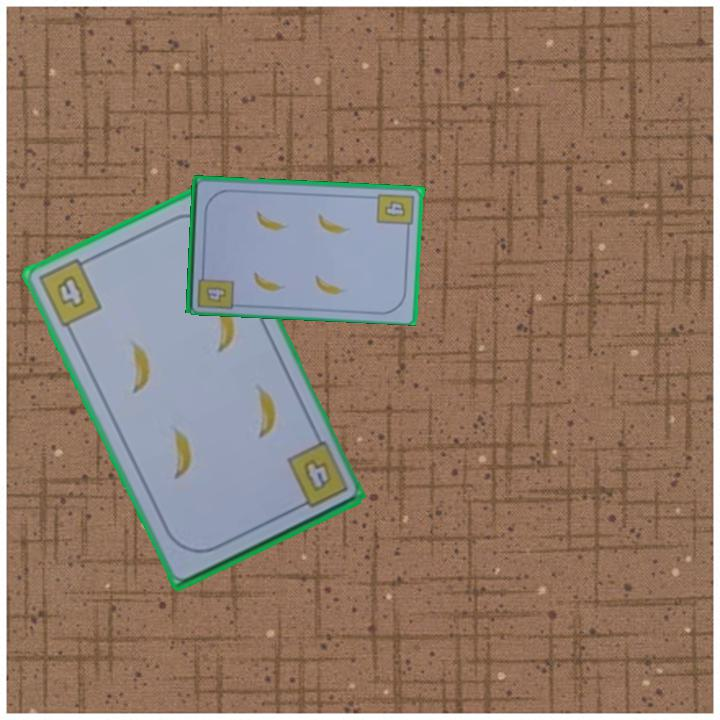4b: (34, 253, 105, 330), (282, 437, 351, 513), (374, 190, 417, 234), (202, 283, 230, 305)
